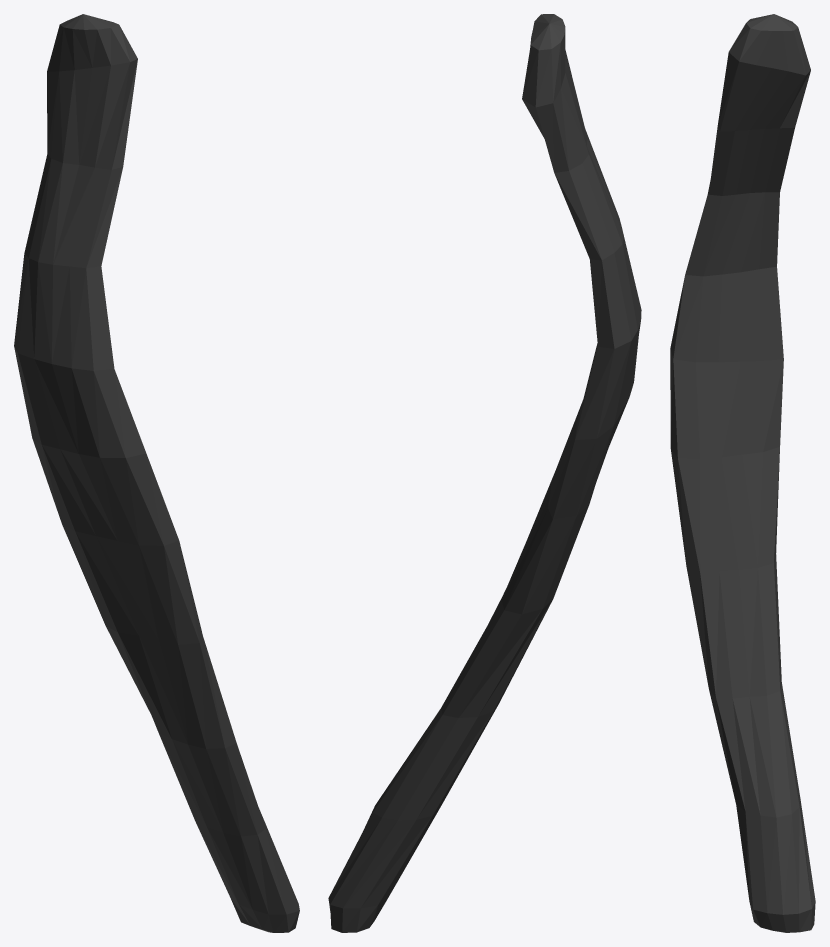
The model's file is Medial_collateral_ligament.glb.
The picture shows the model from 3 angles, left to right: view 1: azimuth 30°, elevation 25°; view 2: azimuth 150°, elevation 25°; view 3: azimuth 270°, elevation 25°; orthographic projection. The views are drawn at different scales.
Parts seen in each view (by area): view 1: Medial_collateral_ligament; view 2: Medial_collateral_ligament; view 3: Medial_collateral_ligament.
Boxes of the visible parts, x1,y1,x2,y2 form: Medial_collateral_ligament: (14,14,299,932); Medial_collateral_ligament: (328,14,641,932); Medial_collateral_ligament: (670,14,815,932).
Bounding box in the file's own units: 0.1479 × 0.4736 × 0.0744.
1 material, 1 textured.
